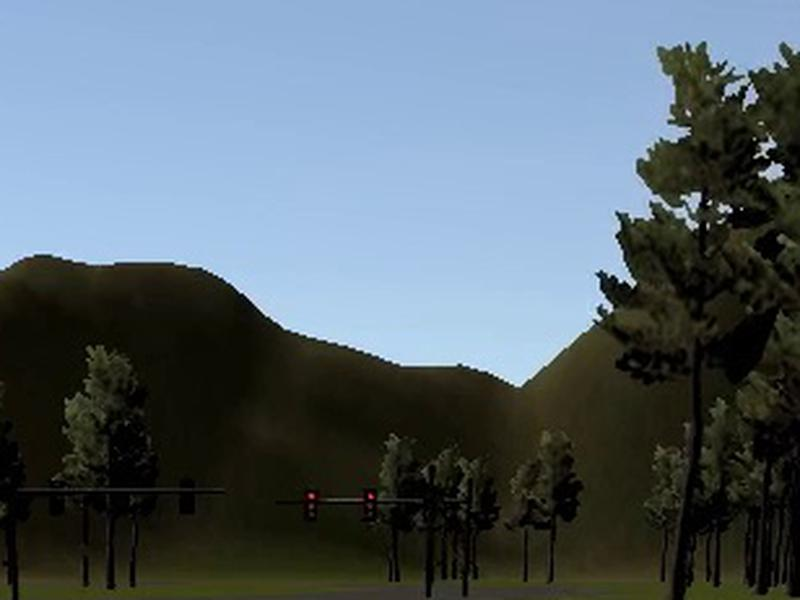Red: (362, 488, 379, 522), (302, 489, 319, 522)
